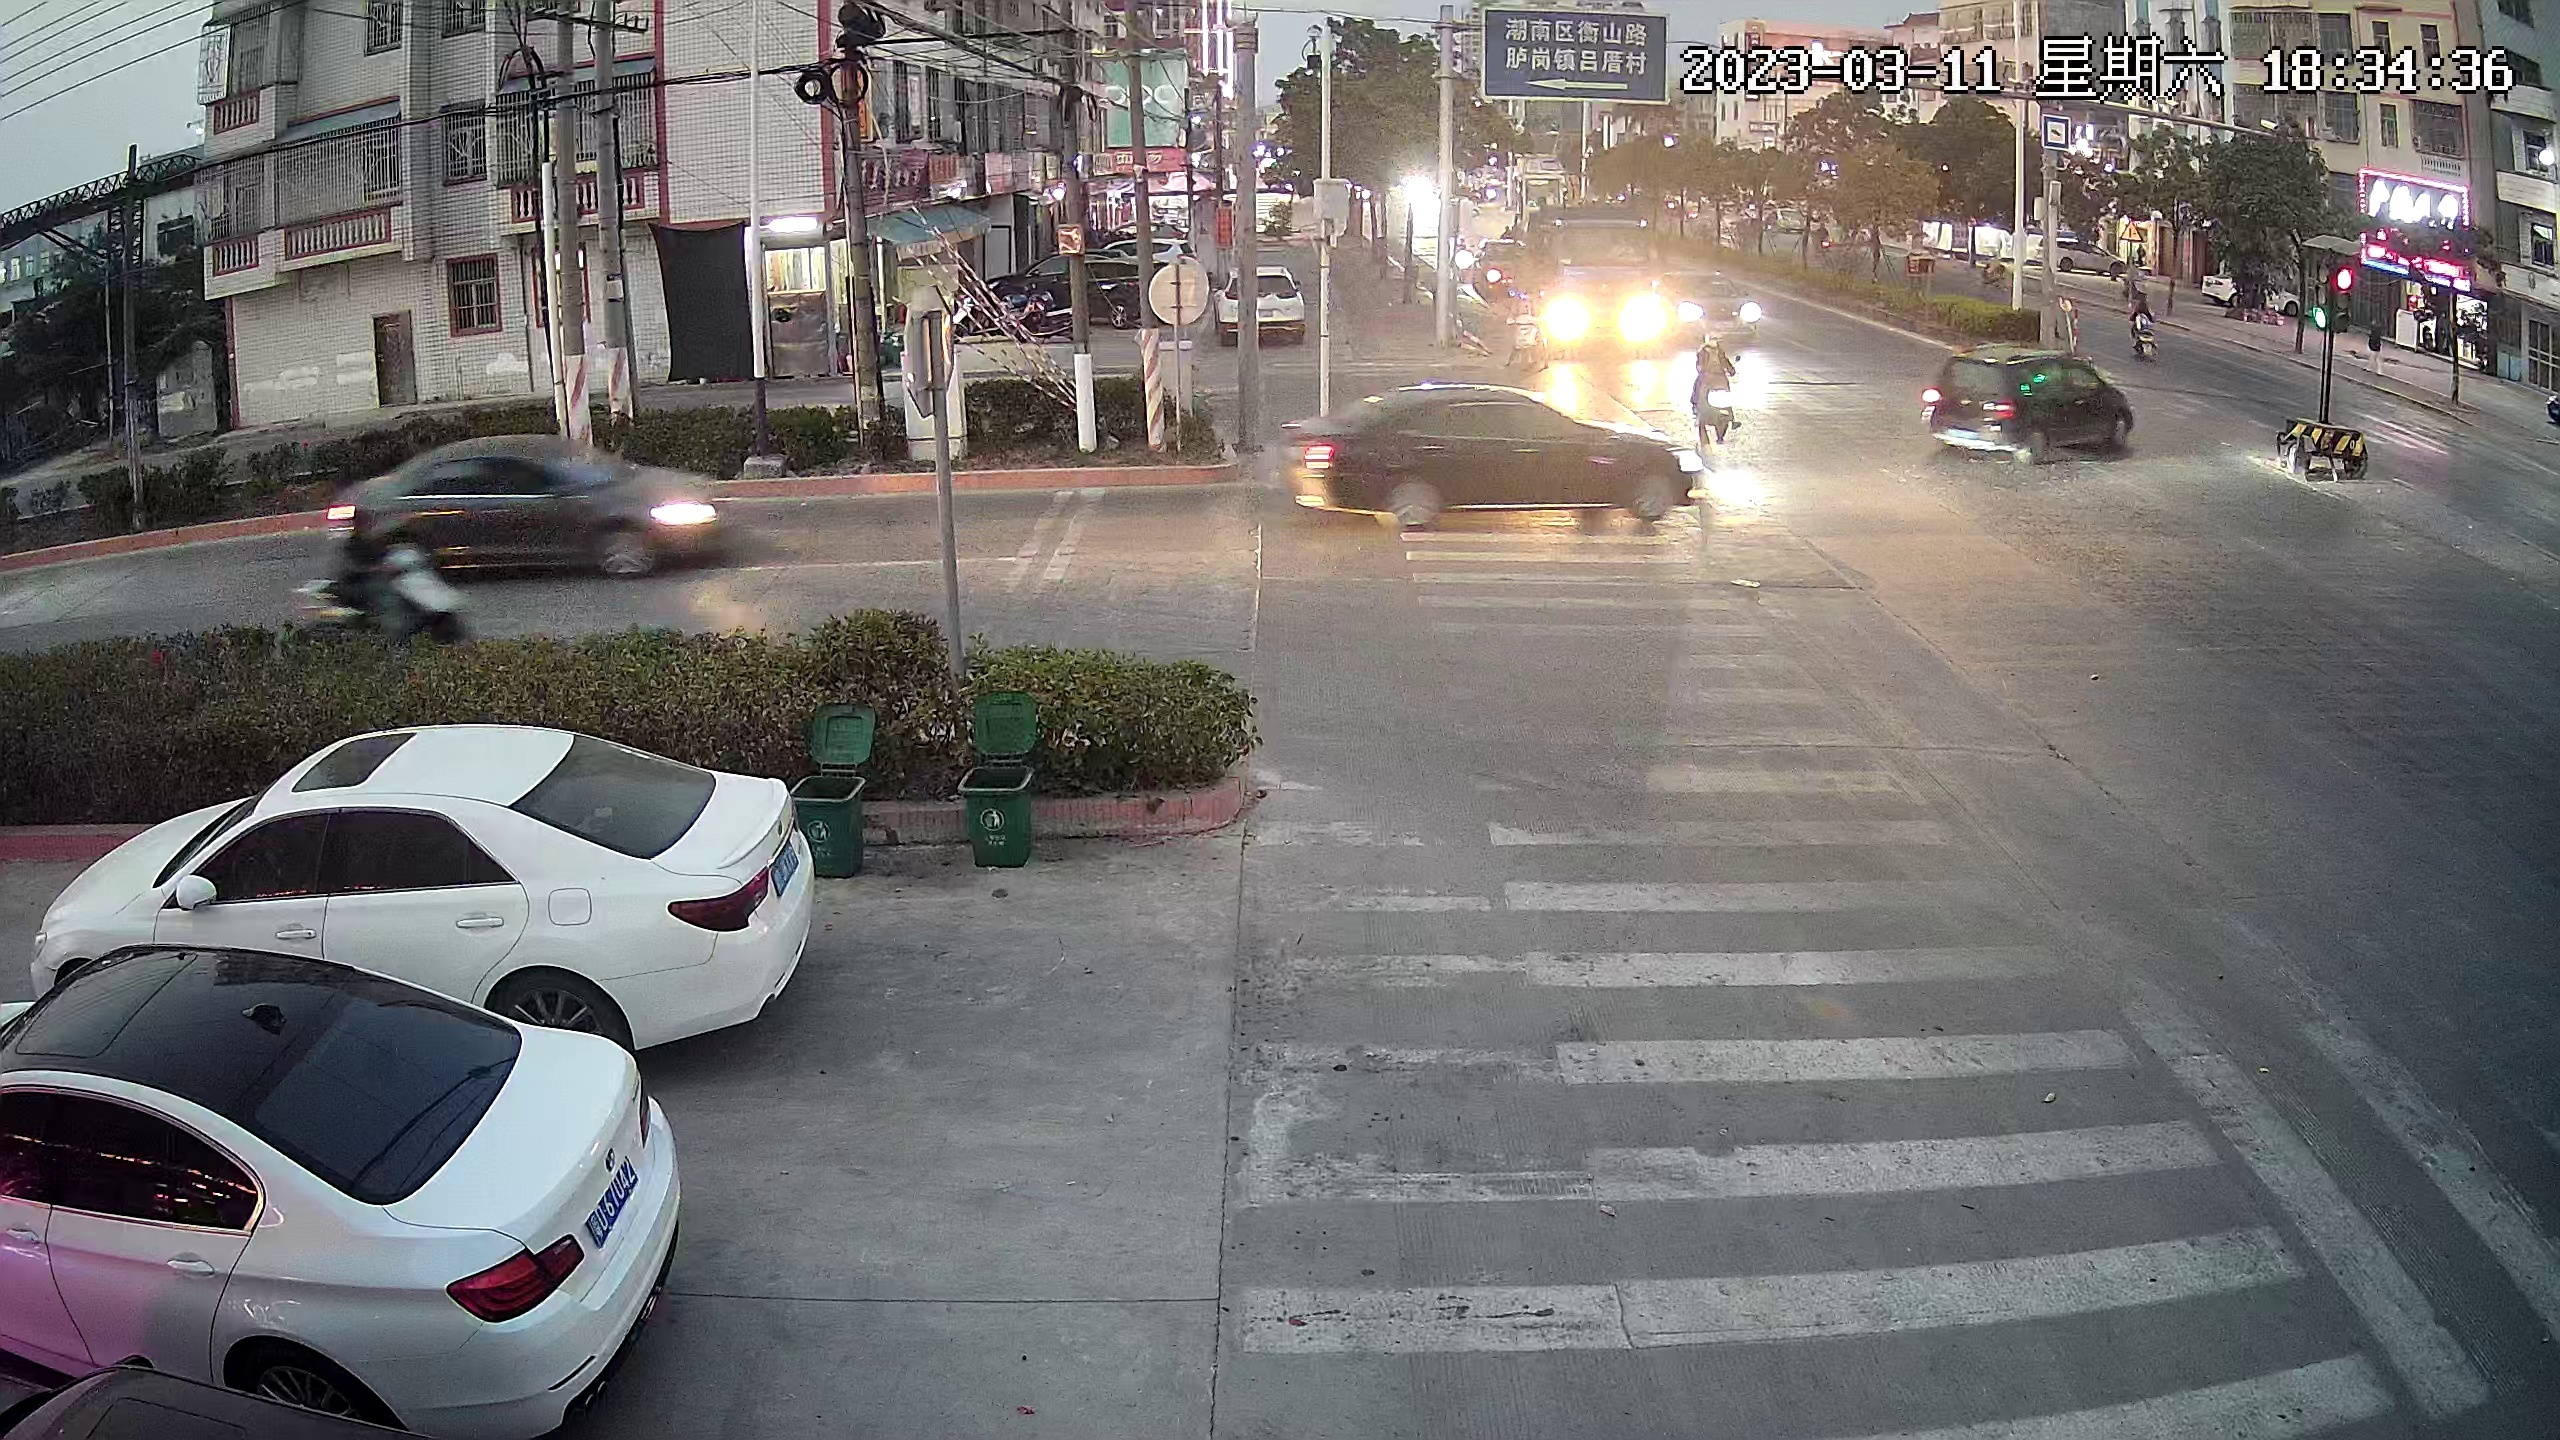motorcycle: (290, 503, 464, 638), (1695, 329, 1744, 457), (2129, 273, 2163, 364), (1009, 294, 1067, 334)
sedan: (2, 958, 663, 1401), (83, 723, 812, 993), (1284, 383, 1693, 543), (338, 440, 731, 554), (1929, 345, 2135, 462), (1030, 251, 1134, 308), (1683, 267, 1756, 339), (2205, 262, 2287, 318), (2038, 230, 2113, 281), (1475, 237, 1514, 295)
suv: (1217, 278, 1306, 345)
truck: (1530, 199, 1663, 353)
